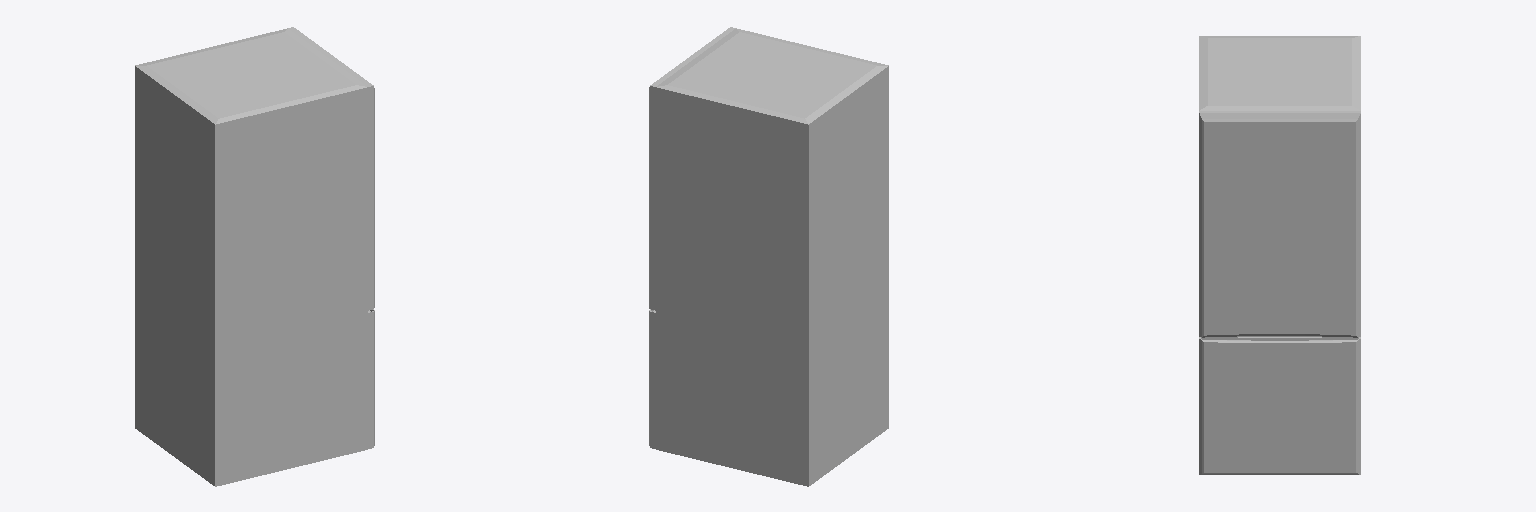
The model's file is Fridge.obj.
The picture shows the model from 3 angles: view 1: azimuth 30°, elevation 25°; view 2: azimuth 150°, elevation 25°; view 3: azimuth 270°, elevation 25°; orthographic projection.
Parts seen in each view (by area): view 1: Fridge_Cube.002; view 2: Fridge_Cube.002; view 3: Fridge_Cube.002.
Boxes of the visible parts, <box> form: Fridge_Cube.002: <box>135,27,374,486</box>; Fridge_Cube.002: <box>649,27,888,486</box>; Fridge_Cube.002: <box>1199,36,1360,474</box>.
Bounding box in the file's own units: 0.936 × 2.01 × 0.8061.